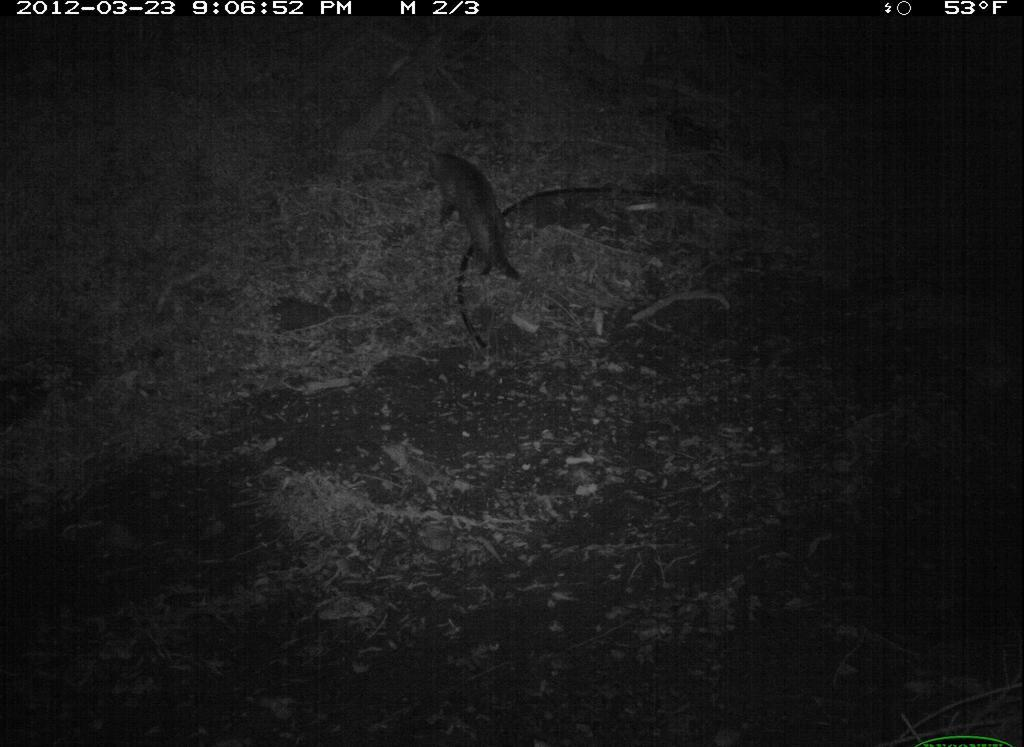cat: (423, 144, 530, 287)
